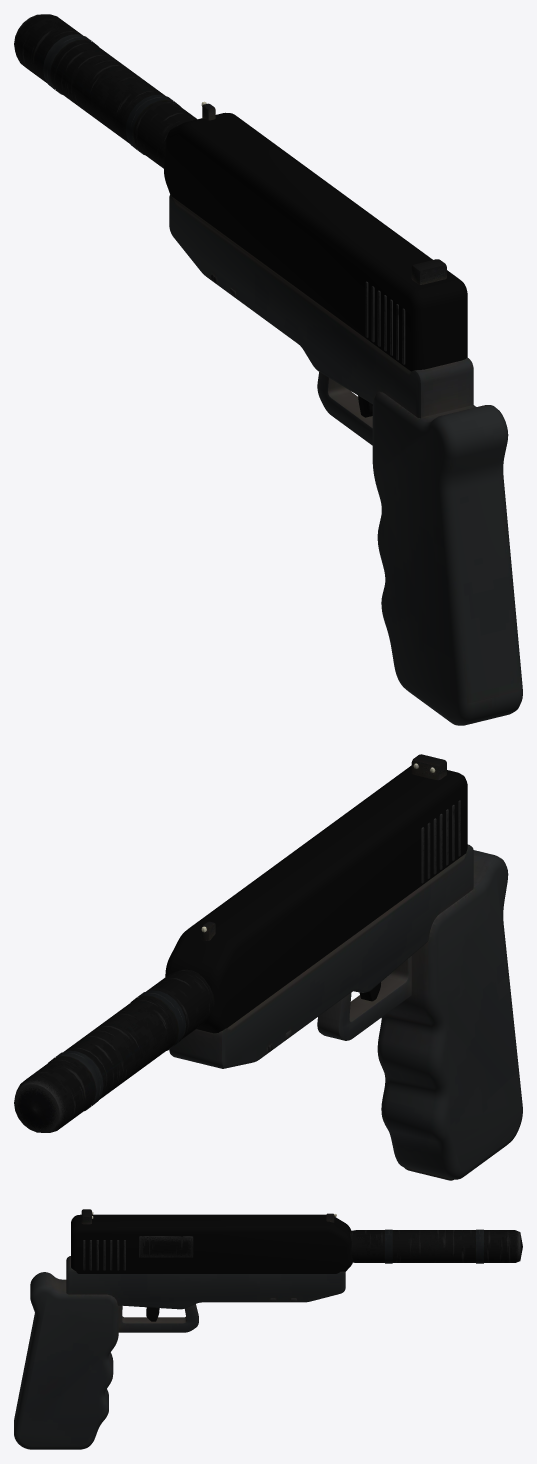
Rendered from usp.glb.
3 views of the same model, one above another, from view 1: azimuth 30°, elevation 25°; view 2: azimuth 150°, elevation 25°; view 3: azimuth 270°, elevation 25° (orthographic). The views are drawn at different scales.
Visible parts, largest first — view 1: body_furniture, slide_receiver, suppressor_receiver, slide_metal; view 2: body_furniture, slide_receiver, suppressor_receiver, slide_metal; view 3: body_furniture, slide_receiver, suppressor_receiver.
Boxes of the visible parts, x1,y1,x2,y2 form: body_furniture: (169, 194, 522, 725); slide_receiver: (164, 112, 467, 371); suppressor_receiver: (14, 14, 196, 168); slide_metal: (201, 101, 446, 284); body_furniture: (169, 844, 522, 1179); slide_receiver: (165, 765, 467, 1033); suppressor_receiver: (14, 969, 214, 1132); slide_metal: (201, 754, 446, 940); body_furniture: (14, 1256, 345, 1449); slide_receiver: (71, 1214, 353, 1273); suppressor_receiver: (350, 1229, 522, 1263).
Bounding box in the file's own units: 0.031 × 0.1955 × 0.3909.
7 materials, 7 textured.
